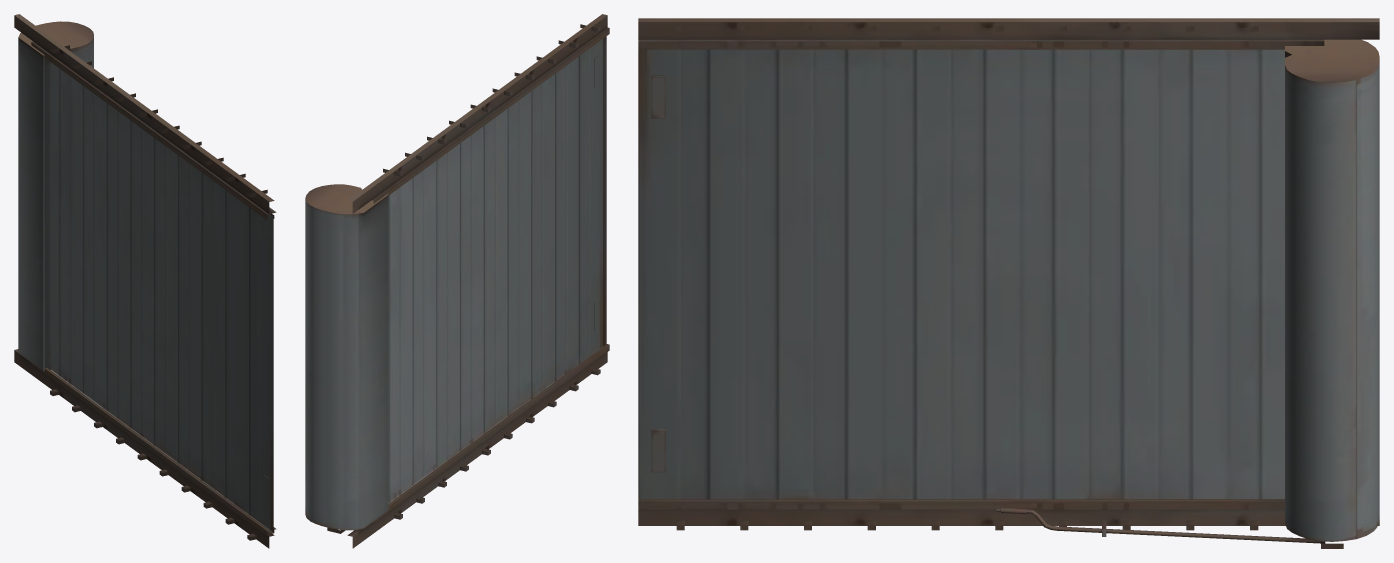
3 views of the same model, side by side, from view 1: azimuth 30°, elevation 25°; view 2: azimuth 150°, elevation 25°; view 3: azimuth 270°, elevation 25° (orthographic). The views are drawn at different scales.
Parts seen in each view (by area): view 1: body0_model0_lod0_mesh0; view 2: body0_model0_lod0_mesh0; view 3: body0_model0_lod0_mesh0.
Boxes of the visible parts, x1,y1,x2,y2 form: body0_model0_lod0_mesh0: [14, 14, 276, 548]; body0_model0_lod0_mesh0: [305, 14, 609, 548]; body0_model0_lod0_mesh0: [638, 18, 1379, 548].
Bounding box in the file's own units: 18.89 × 96 × 128.
Materials: 1 (1 with a texture image).
